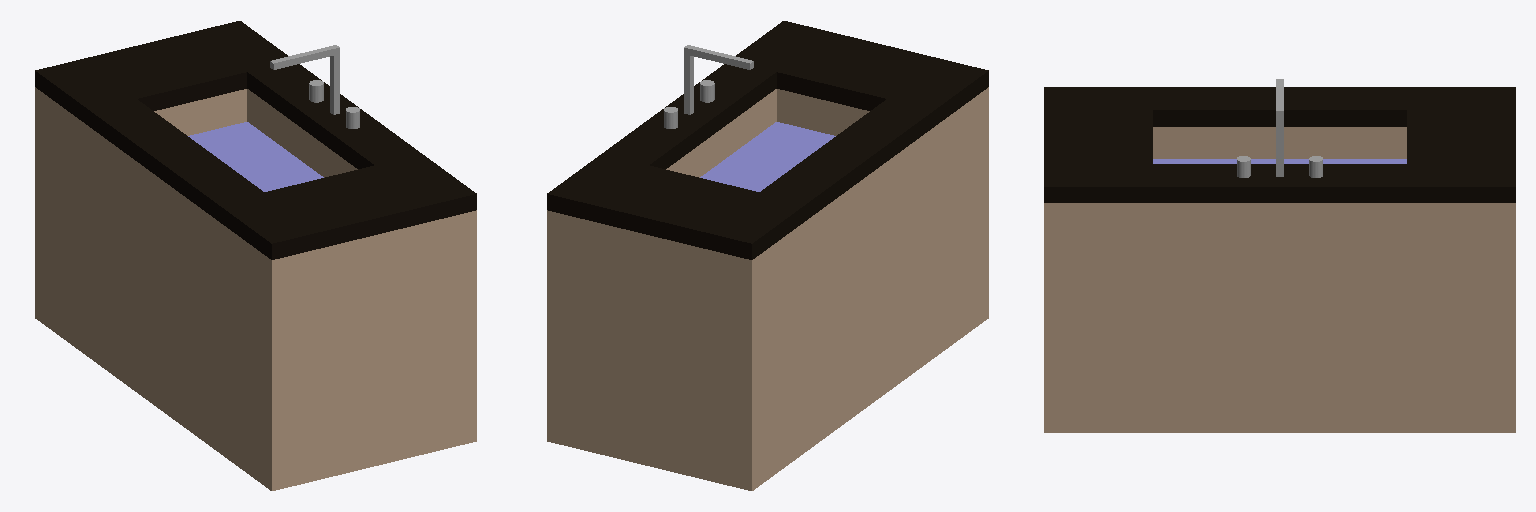
robot.urdf — sink_counter:
<robot name="sink_counter">
  <link name="sink_counter">
    <!-- Front base -->
    <collision>
      <origin xyz="-0.25 0 0.35" />
      <geometry>
        <box size="0.15 1.3 0.7" />
      </geometry>
    </collision>
    <visual>
      <origin xyz="-0.25 0 0.35" />
      <material name="wood">
        <color rgba="0.78 0.68 0.58 1.0" />
      </material>
      <geometry>
        <box size="0.15 1.3 0.7" />
      </geometry>
    </visual>

    <!-- Back base -->
    <collision>
      <origin xyz="0.25 0 0.35" />
      <geometry>
        <box size="0.15 1.3 0.7" />
      </geometry>
    </collision>
    <visual>
      <origin xyz="0.25 0 0.35" />
      <material name="wood">
        <color rgba="0.78 0.68 0.58 1.0" />
      </material>
      <geometry>
        <box size="0.15 1.3 0.7" />
      </geometry>
    </visual>

    <!-- Left base -->
    <collision>
      <origin xyz="0 -0.5 0.35" />
      <geometry>
        <box size="0.4 0.3 0.7" />
      </geometry>
    </collision>
    <visual>
      <origin xyz="0 -0.5 0.35" />
      <material name="wood">
        <color rgba="0.78 0.68 0.58 1.0" />
      </material>
      <geometry>
        <box size="0.4 0.3 0.7" />
      </geometry>
    </visual>

    <!-- Right base -->
    <collision>
      <origin xyz="0 0.5 0.35" />
      <geometry>
        <box size="0.4 0.3 0.7" />
      </geometry>
    </collision>
    <visual>
      <origin xyz="0 0.5 0.35" />
      <material name="wood">
        <color rgba="0.78 0.68 0.58 1.0" />
      </material>
      <geometry>
        <box size="0.4 0.3 0.7" />
      </geometry>
    </visual>

    <!-- Center base -->
    <collision>
      <origin xyz="0 0 0.25" />
      <geometry>
        <box size="0.4 0.7 0.5" />
      </geometry>
    </collision>
    <visual>
      <origin xyz="0 0 0.25" />
      <material name="wood">
        <color rgba="0.78 0.68 0.58 1.0" />
      </material>
      <geometry>
        <box size="0.4 0.7 0.5" />
      </geometry>
    </visual>

    <!-- Water -->
    <collision>
      <origin xyz="0 0 0.55" />
      <geometry>
        <box size="0.4 0.7 0.1" />
      </geometry>
    </collision>
    <visual>
      <origin xyz="0 0 0.55" />
      <material name="water steel">
        <color rgba="0.58 0.58 0.85 0.58" />
      </material>
      <geometry>
        <box size="0.4 0.7 0.1" />
      </geometry>
    </visual>

    <!-- Front top -->
    <collision>
      <origin xyz="-0.25 0 0.725" />
      <geometry>
        <box size="0.15 1.3 0.05" />
      </geometry>
    </collision>
    <visual>
      <origin xyz="-0.25 0 0.725" />
      <material name="dark_marble">
        <color rgba="0.125 0.1 0.075 1.0" />
      </material>
      <geometry>
        <box size="0.15 1.3 0.05" />
      </geometry>
    </visual>
    
    <!-- Back top -->
    <collision>
      <origin xyz="0.25 0 0.725" />
      <geometry>
        <box size="0.15 1.3 0.05" />
      </geometry>
    </collision>
    <visual>
      <origin xyz="0.25 0 0.725" />
      <material name="dark_marble">
        <color rgba="0.125 0.1 0.075 1.0" />
      </material>
      <geometry>
        <box size="0.15 1.3 0.05" />
      </geometry>
    </visual>

    <!-- Left top -->
    <collision>
      <origin xyz="0 -0.5 0.725" />
      <geometry>
        <box size="0.4 0.3 0.05" />
      </geometry>
    </collision>
    <visual>
      <origin xyz="0 -0.5 0.725" />
      <material name="dark_marble">
        <color rgba="0.125 0.1 0.075 1.0" />
      </material>
      <geometry>
        <box size="0.4 0.3 0.05" />
      </geometry>
    </visual>

    <!-- Right top -->
    <collision>
      <origin xyz="0 0.5 0.725" />
      <geometry>
        <box size="0.4 0.3 0.05" />
      </geometry>
    </collision>
    <visual>
      <origin xyz="0 0.5 0.725" />
      <material name="dark_marble">
        <color rgba="0.125 0.1 0.075 1.0" />
      </material>
      <geometry>
        <box size="0.4 0.3 0.05" />
      </geometry>
    </visual>

    <!-- Tap vertical -->
    <collision>
      <origin xyz="0.25 0 0.85" />
      <geometry>
        <box size="0.02 0.02 0.2" />
      </geometry>
    </collision>
    <visual>
      <origin xyz="0.25 0 0.85" />
      <material name="steel">
        <color rgba="0.68 0.68 0.68 1.0" />
      </material>
      <geometry>
        <box size="0.02 0.02 0.2" />
      </geometry>
    </visual>

    <!-- Tap horizontal -->
    <collision>
      <origin xyz="0.15 0 0.94" />
      <geometry>
        <box size="0.2 0.02 0.02" />
      </geometry>
    </collision>
    <visual>
      <origin xyz="0.15 0 0.94" />
      <material name="steel">
        <color rgba="0.68 0.68 0.68 1.0" />
      </material>
      <geometry>
        <box size="0.2 0.02 0.02" />
      </geometry>
    </visual>

    <!-- Hot water -->
    <collision>
      <origin xyz="0.25 0.1 0.775" />
      <geometry>
        <cylinder radius="0.02" length="0.05" />
      </geometry>
    </collision>
    <visual>
      <origin xyz="0.25 0.1 0.775" />
      <material name="steel">
        <color rgba="0.68 0.68 0.68 1.0" />
      </material>
      <geometry>
        <cylinder radius="0.02" length="0.05" />
      </geometry>
    </visual>

    <!-- Cold water -->
    <collision>
      <origin xyz="0.25 -0.1 0.775" />
      <geometry>
        <cylinder radius="0.02" length="0.05" />
      </geometry>
    </collision>
    <visual>
      <origin xyz="0.25 -0.1 0.775" />
      <material name="steel">
        <color rgba="0.68 0.68 0.68 1.0" />
      </material>
      <geometry>
        <cylinder radius="0.02" length="0.05" />
      </geometry>
    </visual>

  </link>
</robot>

--- Facts derived from the render (not from the file) ---
Views: 3 orthographic renders of the robot side by side, from view 1: azimuth 30°, elevation 25°; view 2: azimuth 150°, elevation 25°; view 3: azimuth 270°, elevation 25°.
Robot: sink_counter — 1 links, 0 joints (none); root link sink_counter; default pose: all joints at 0.
Links seen in each view (by area): view 1: sink_counter; view 2: sink_counter; view 3: sink_counter.
Boxes of the visible links, bbox=[...] form: sink_counter: bbox=[35, 21, 476, 490]; sink_counter: bbox=[547, 21, 988, 490]; sink_counter: bbox=[1044, 79, 1515, 432].
Size in the robot's own frame: 0.65 by 1.3 by 0.95 metres.
Geometry: primitives only (box / cylinder / sphere), no mesh files.